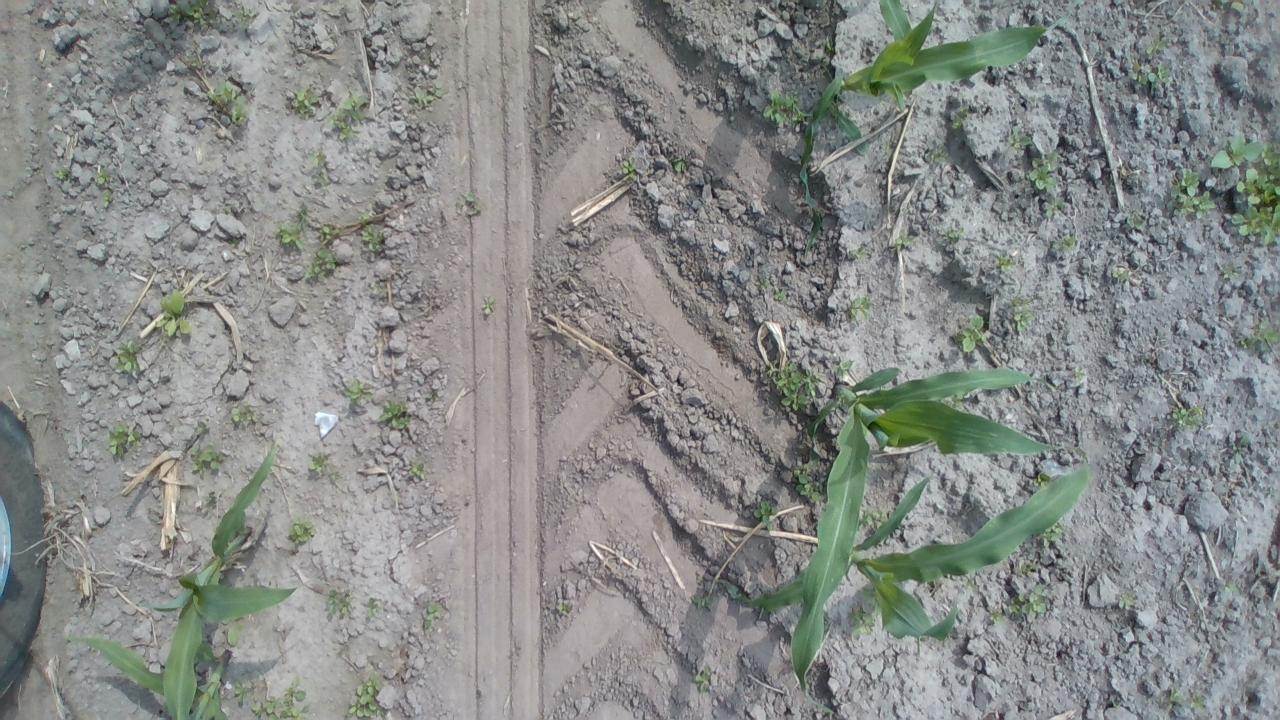Maize: (713, 446, 1091, 720), (789, 361, 1060, 719), (796, 0, 1086, 257), (146, 440, 302, 720), (62, 632, 234, 720)
Weeds: (1211, 128, 1280, 246), (768, 358, 826, 410), (253, 676, 314, 720), (1169, 164, 1218, 218), (988, 583, 1048, 624), (326, 89, 369, 140), (206, 80, 252, 125), (346, 672, 385, 720), (155, 286, 192, 336), (762, 88, 810, 126), (168, 0, 218, 32), (954, 312, 992, 354), (789, 458, 822, 503), (106, 420, 142, 460), (1238, 317, 1280, 351), (1028, 149, 1058, 193), (376, 398, 416, 431), (285, 83, 320, 120), (407, 76, 444, 110), (190, 441, 225, 476), (1130, 60, 1170, 88), (1008, 295, 1038, 331), (302, 248, 334, 281), (274, 219, 306, 250), (848, 605, 878, 638), (304, 452, 338, 481), (1170, 400, 1204, 428), (286, 514, 317, 544), (324, 589, 354, 618), (115, 340, 144, 370), (754, 500, 780, 532), (341, 378, 375, 401), (422, 600, 446, 632), (360, 224, 386, 253), (223, 618, 249, 646), (844, 296, 871, 322), (855, 509, 888, 530), (1038, 522, 1064, 546), (230, 398, 256, 422), (942, 390, 970, 412), (936, 224, 968, 243), (223, 5, 256, 23), (1006, 126, 1032, 148), (1160, 687, 1186, 708), (694, 663, 712, 693), (1109, 262, 1136, 282), (1054, 232, 1080, 252), (462, 190, 482, 215), (407, 461, 432, 481), (1232, 434, 1248, 464), (993, 254, 1017, 273), (951, 107, 970, 131), (831, 358, 856, 376), (1146, 35, 1168, 55), (894, 228, 914, 250), (1126, 210, 1146, 232), (234, 680, 252, 704), (50, 166, 74, 182), (1117, 591, 1137, 610), (366, 593, 381, 618), (1218, 0, 1246, 13), (316, 224, 337, 241), (1018, 559, 1040, 575), (1189, 693, 1207, 712), (1032, 473, 1052, 490), (930, 142, 946, 162), (850, 244, 869, 260), (672, 156, 688, 174), (622, 160, 638, 178), (1046, 198, 1064, 214), (1070, 366, 1088, 382), (1220, 264, 1238, 280), (96, 167, 111, 186), (481, 296, 496, 314), (308, 147, 326, 162), (317, 173, 331, 192), (691, 595, 711, 608), (100, 190, 113, 208), (193, 420, 208, 435), (771, 286, 786, 301), (962, 576, 976, 592), (199, 494, 217, 505), (558, 602, 572, 616), (824, 36, 834, 54), (1224, 583, 1241, 593), (190, 62, 207, 70), (758, 278, 769, 290), (296, 207, 306, 219), (816, 207, 826, 217), (358, 212, 370, 220)
